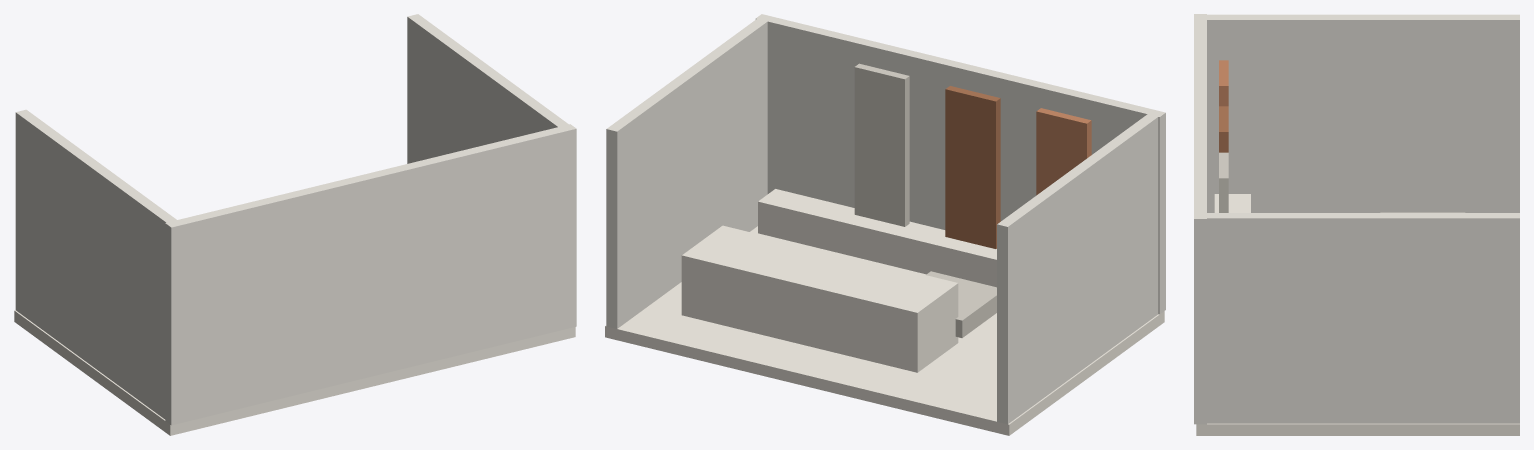
The model's file is living-2-study.glb.
3 views of the same model, side by side, from view 1: azimuth 30°, elevation 25°; view 2: azimuth 150°, elevation 25°; view 3: azimuth 270°, elevation 25° (orthographic). The views are drawn at different scales.
Parts seen in each view (by area): view 1: wall (×3), floor; view 2: wall (×3), sofa, floor, low-console, art-three, art-two, art-one, table; view 3: wall (×3), floor, art-three, low-console, art-one, art-two.
Boxes of the visible parts, x1,y1,x2,y2 form: wall (×3): (15, 14, 576, 425); floor: (14, 310, 575, 435); wall (×3): (606, 14, 1165, 424); sofa: (681, 225, 958, 372); floor: (605, 226, 1164, 435); low-console: (758, 189, 996, 287); art-three: (854, 63, 909, 226); art-two: (945, 86, 1000, 248); art-one: (1036, 108, 1091, 195); table: (926, 271, 996, 337); wall (×3): (1194, 14, 1519, 424); floor: (1196, 423, 1519, 435); art-three: (1219, 152, 1228, 212); low-console: (1214, 194, 1250, 212); art-one: (1219, 60, 1228, 106); art-two: (1219, 106, 1228, 152).
Size of the model in its own units: 6 by 2.96 by 4.03.
